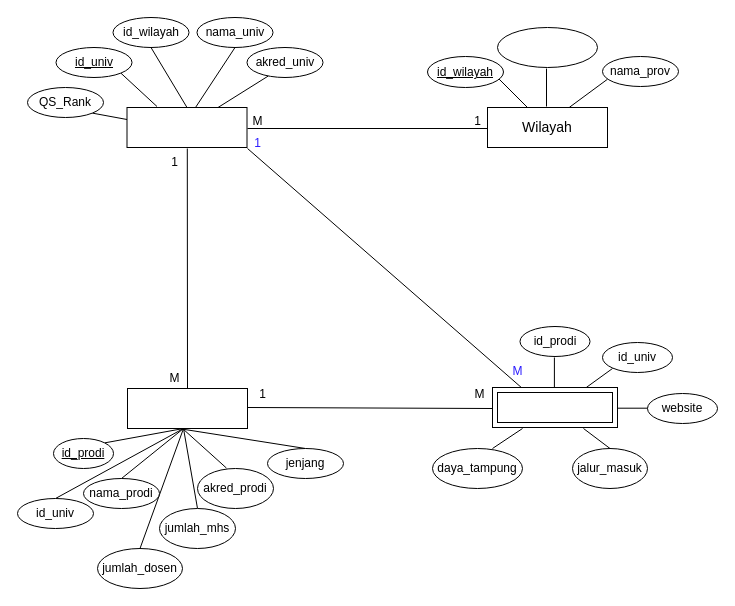
Some shapes in this 735 by 606 pixel diagram are drawn without their labels. Here are the shapes that lost their labels. From the top down, the centre of each, then its label:
At (x=547, y=47): "Nama_Kabkota".
At (x=186, y=127): "Universitas".
At (x=187, y=408): "Prodi StatHub".
At (x=555, y=407): "Jalur Masuk".
